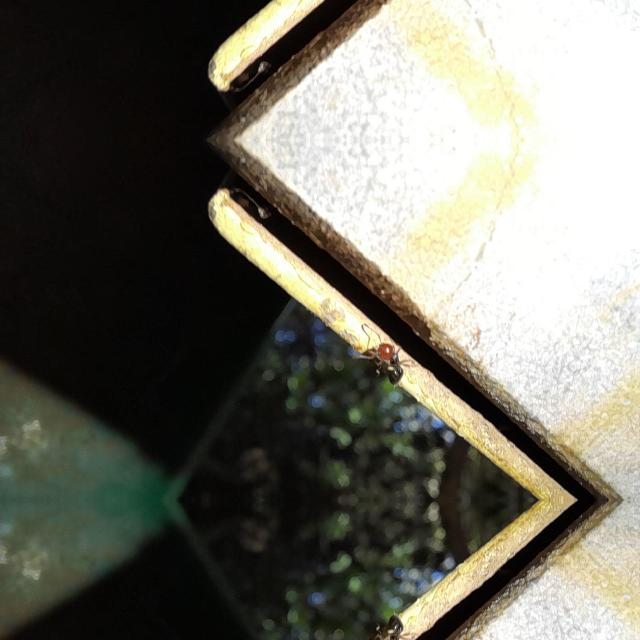Crematogaster: (370, 341, 404, 389), (369, 611, 404, 640)
